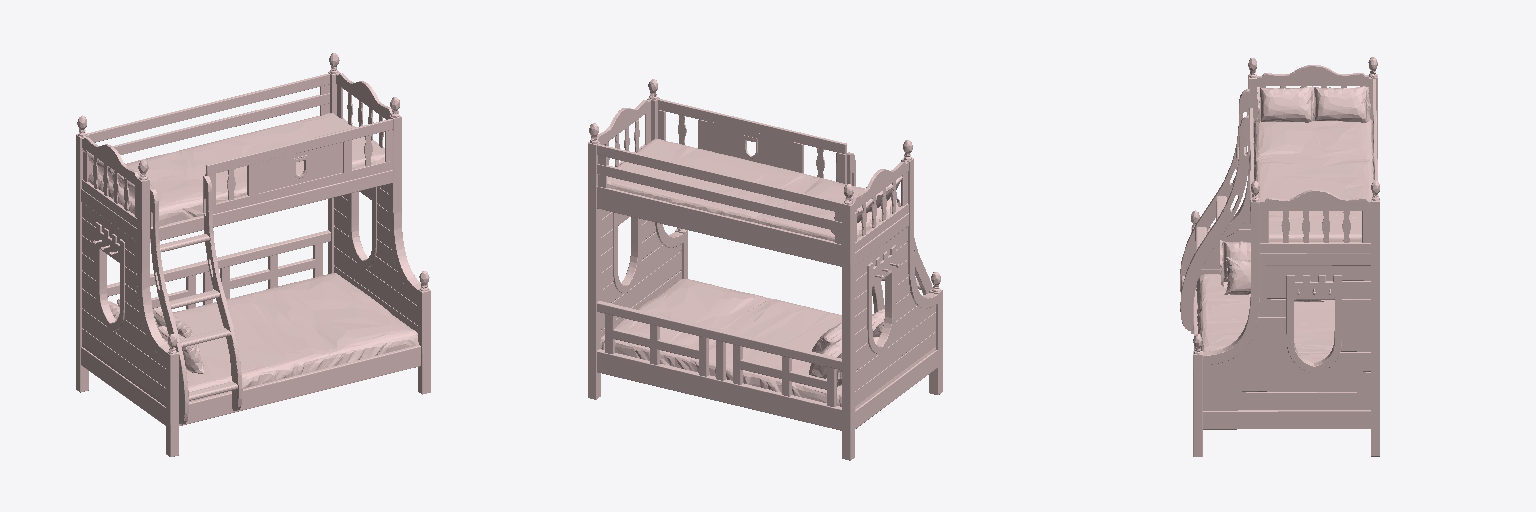
The model's file is raw_model.obj.
3 renders of one model, left to right at view 1: azimuth 30°, elevation 25°; view 2: azimuth 150°, elevation 25°; view 3: azimuth 270°, elevation 25°, orthographic.
Size of the model in its own units: 2.16 by 2.03 by 1.35.